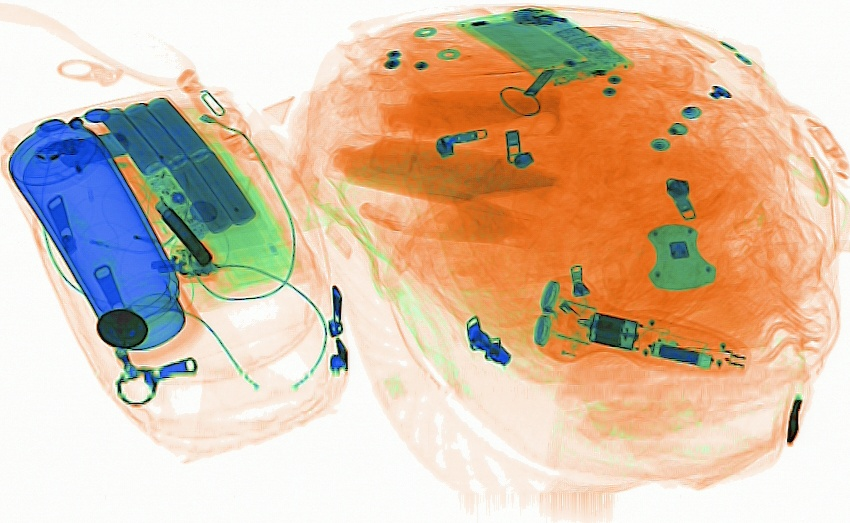powerbank: (70, 83, 311, 297)
